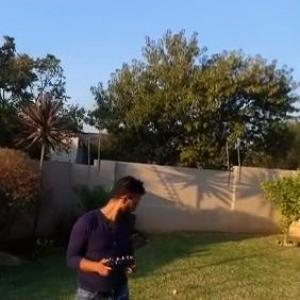follow: (62, 171, 150, 299)
